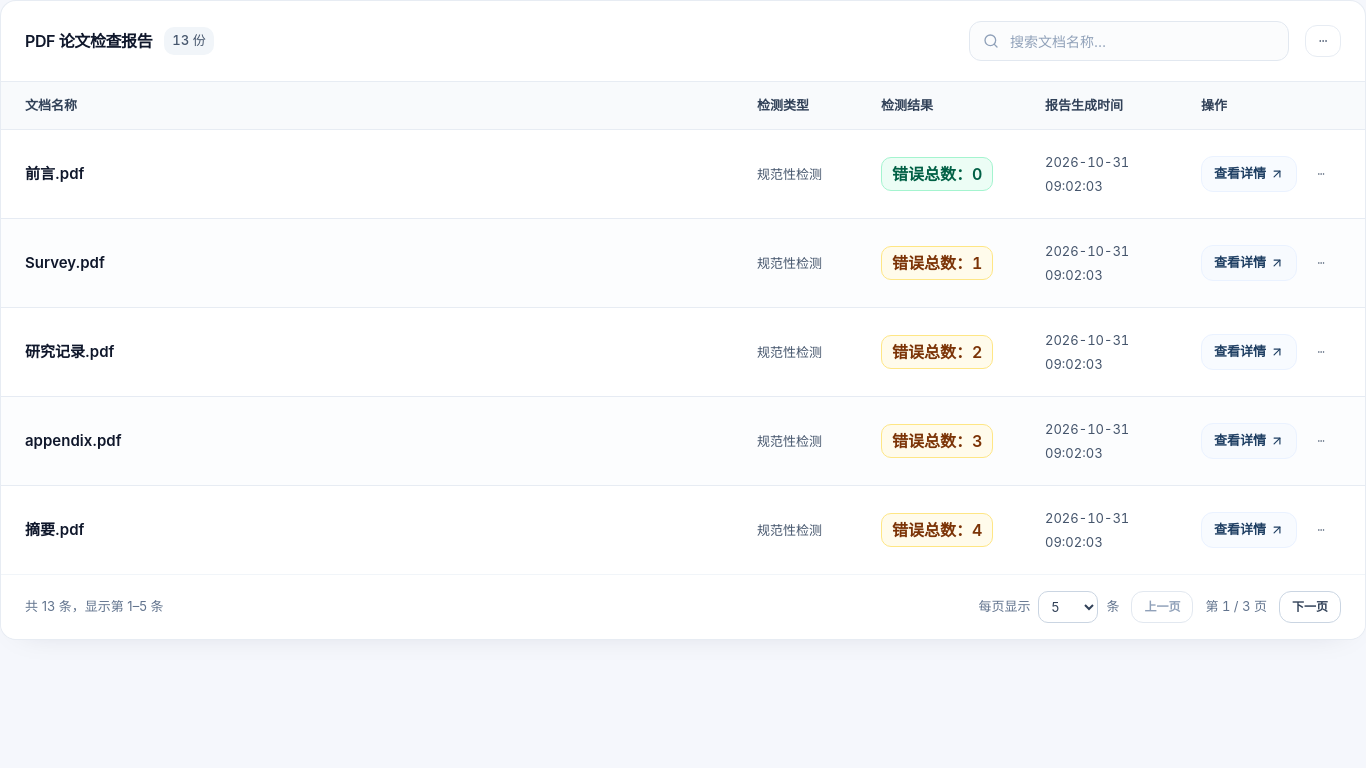
Test case: resets the page for a changed query and restores the full first page when cleared
Click the button "下一页".
click(1310, 607)  # box [1279,591,1341,623]
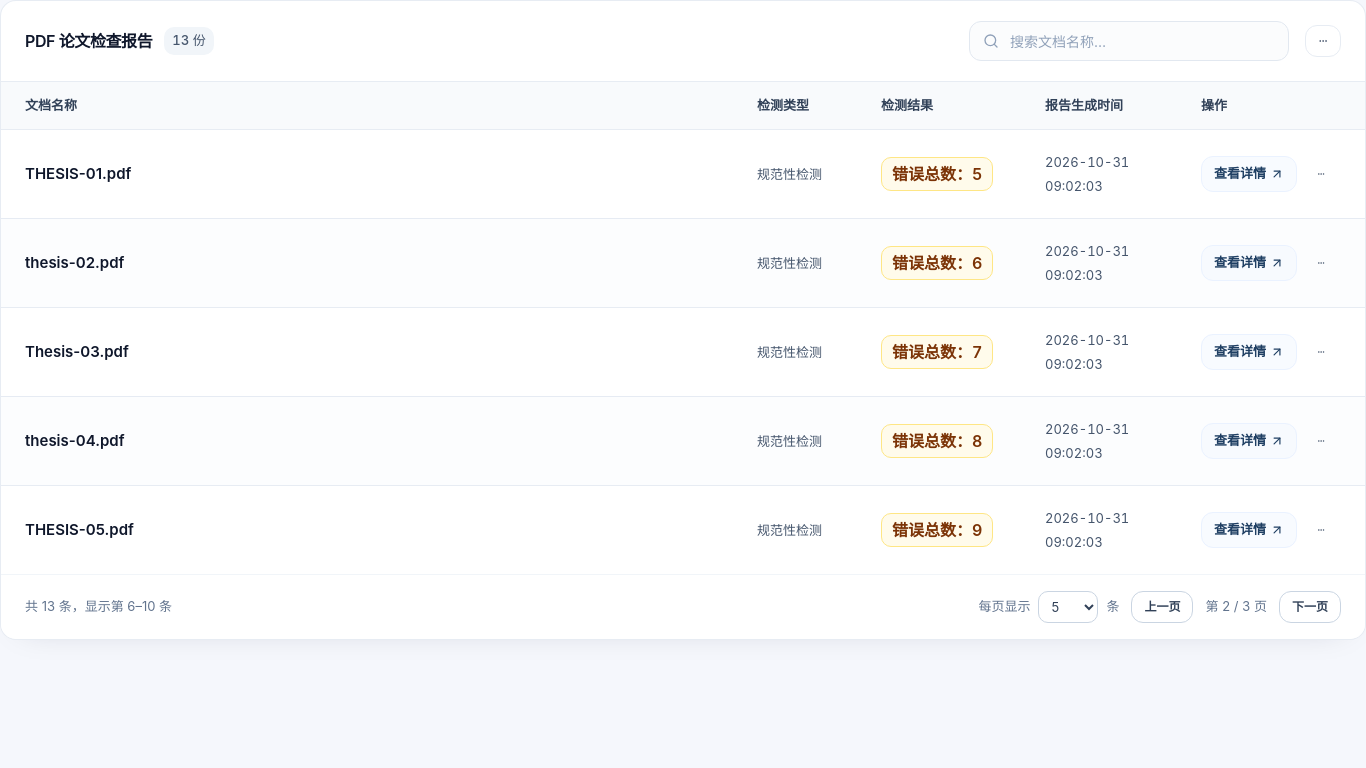
Type "thesis-" into the search field named "搜索检测报告".
click(1129, 41); type("thesis-")  # box [969,21,1289,61]
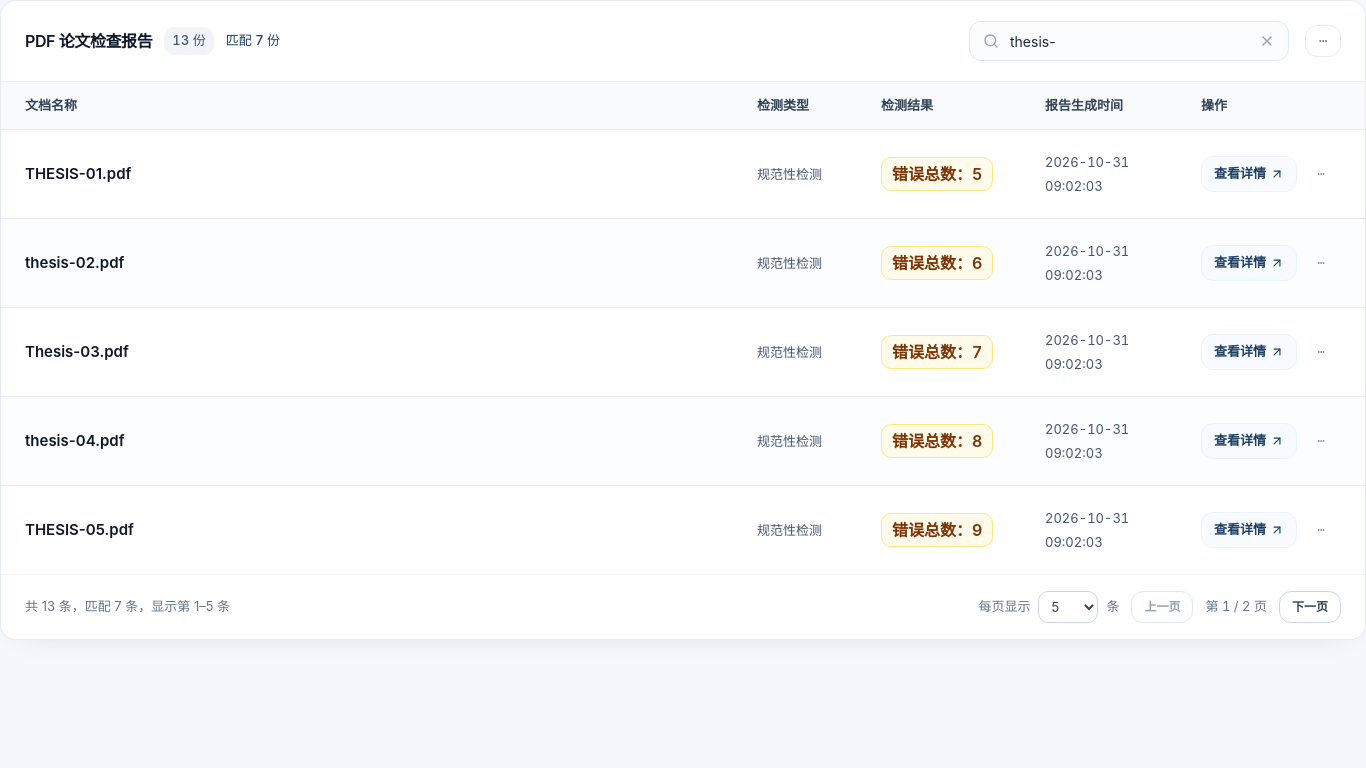
Expected: the link titled ".pdf" reads "THESIS-01.pdf", [25,164,131,183]
Click the button "下一页".
click(1310, 607)  # box [1279,591,1341,623]
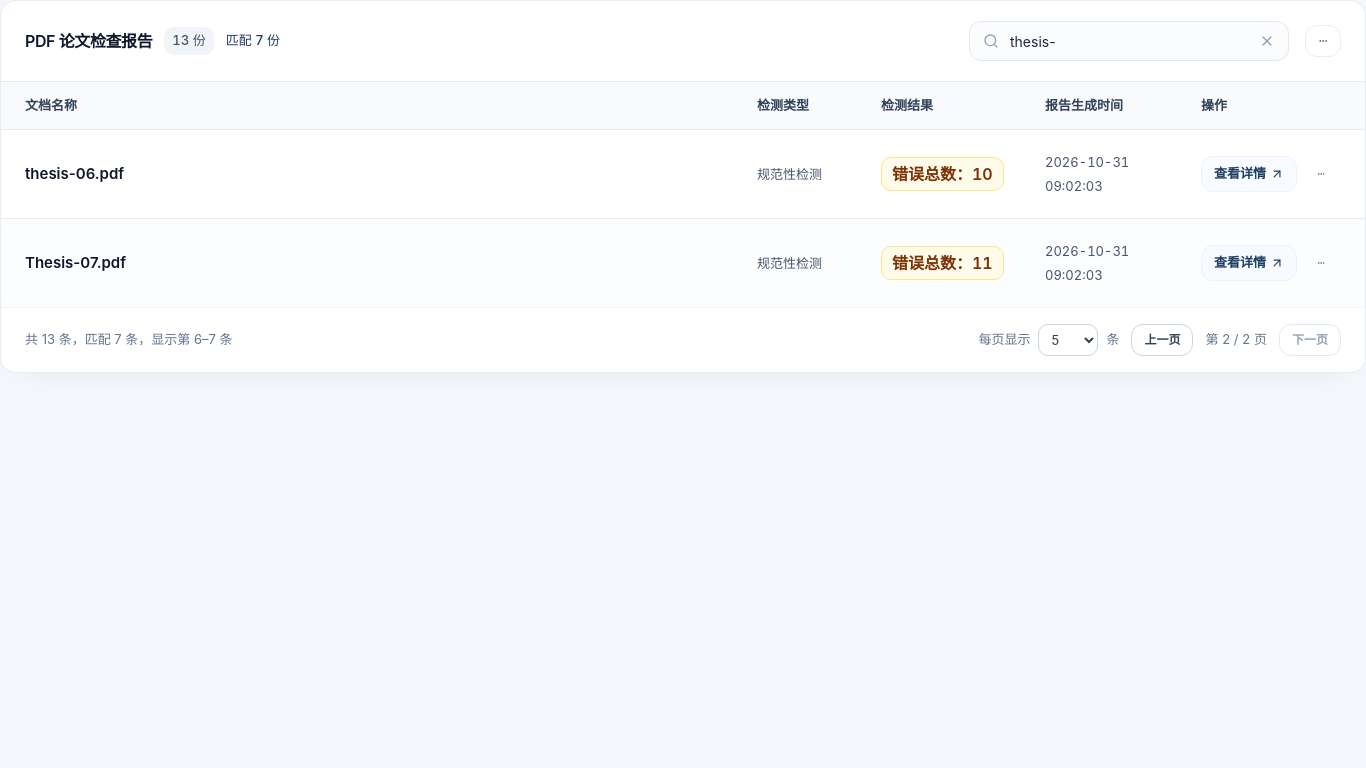
Replace the text in the search field named "搜索检测报告" with "Thesis-03" at coordinates (1129, 41), box [969,21,1289,61]
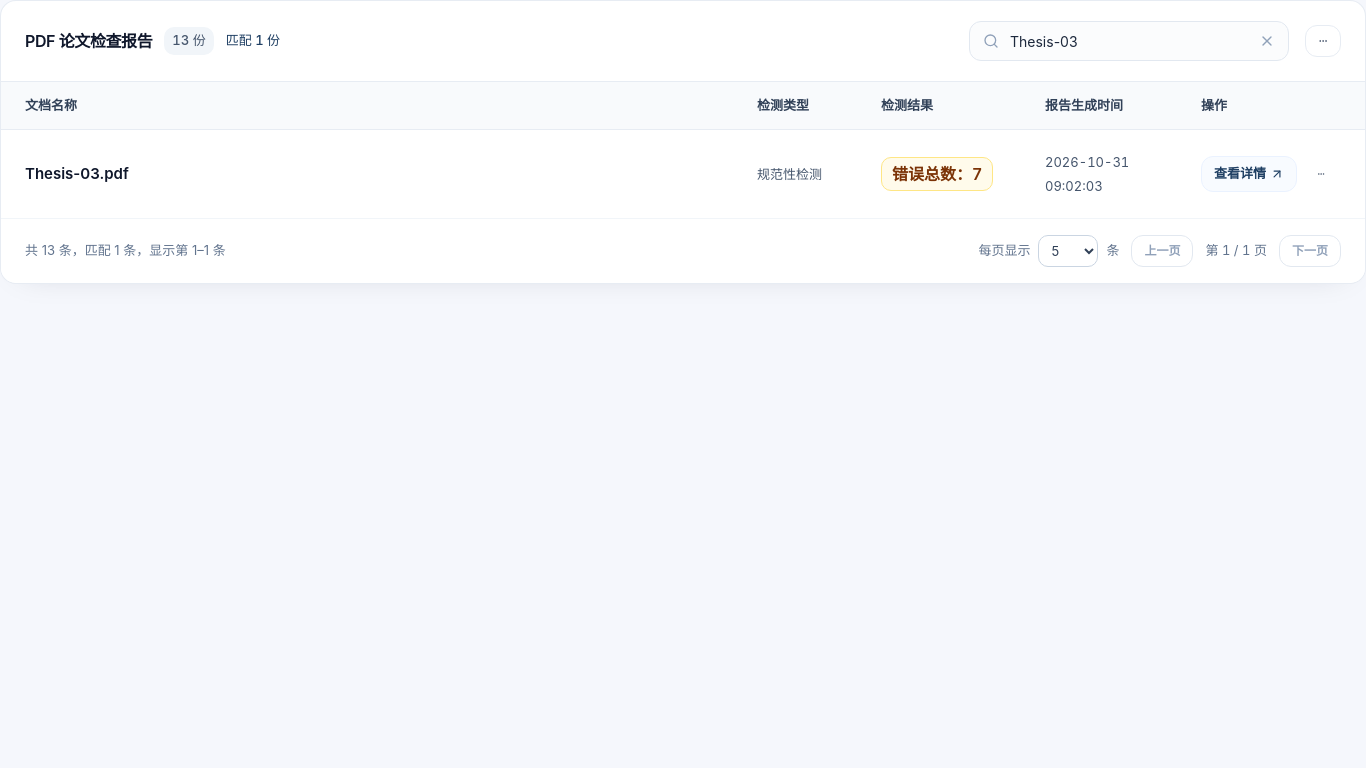
Expected: the text "第 1 / 1 页" is shown, [1205,241,1267,260]
Click the button named "清空搜索".
click(1267, 41)  # box [1251,25,1283,57]
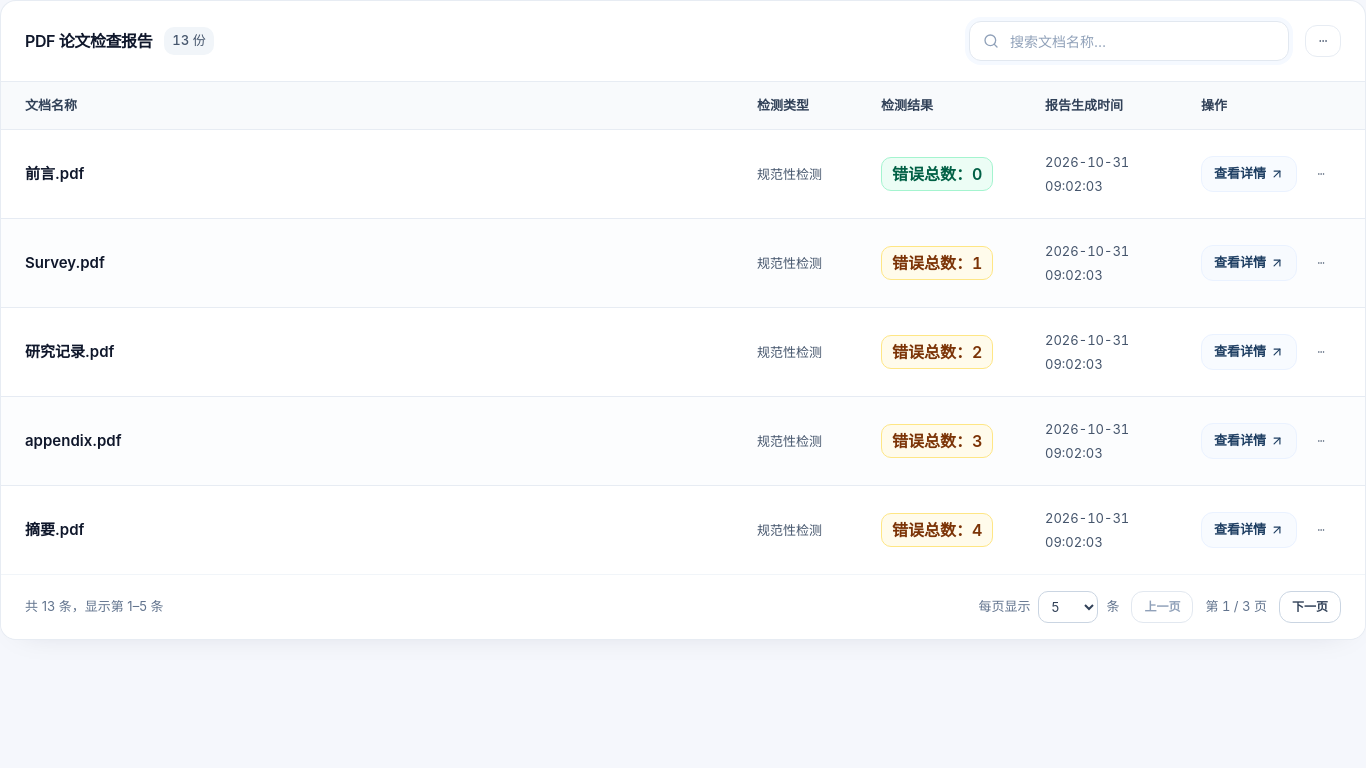
Expected: the search field named "搜索检测报告" is empty, [969,21,1289,61]
Expected: the text "第 1 / 3 页" is shown, [1205,597,1267,616]
Expected: the text "匹配 1 份" is gone
